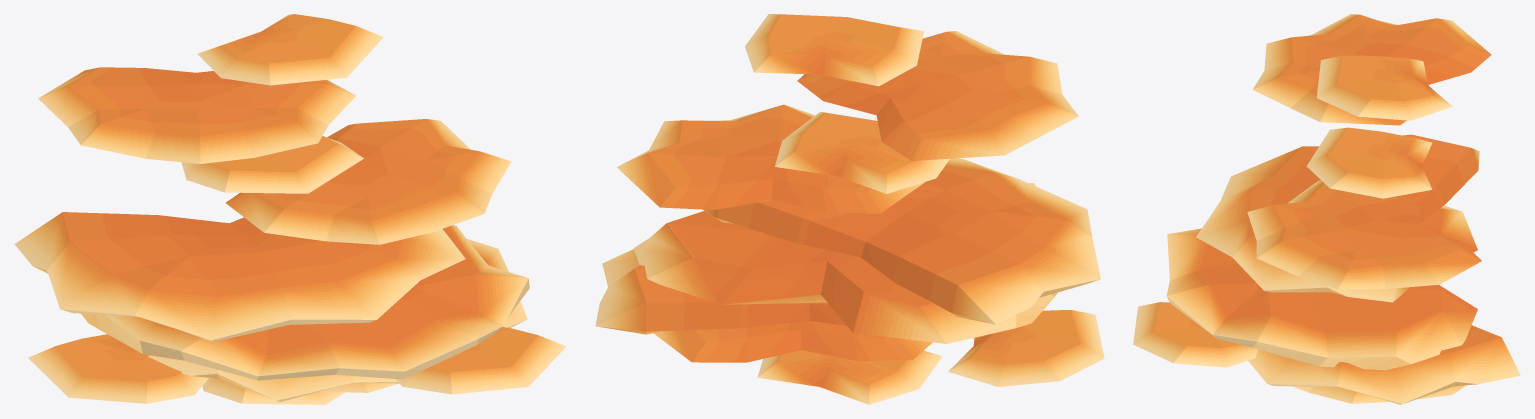
File: ChickenWoods_Bunch.glb
The picture shows the model from 3 angles, left to right: view 1: azimuth 30°, elevation 25°; view 2: azimuth 150°, elevation 25°; view 3: azimuth 270°, elevation 25°; orthographic projection. The views are drawn at different scales.
Parts seen in each view (by area): view 1: smallfull.004; view 2: smallfull.004; view 3: smallfull.004.
Boxes of the visible parts, box(x1,y1,x2,y2) form: smallfull.004: box(14, 14, 566, 404); smallfull.004: box(595, 14, 1104, 404); smallfull.004: box(1133, 14, 1520, 404).
Size of the model in its own units: 5.1 by 3.61 by 4.25.
1 material, 1 textured.
